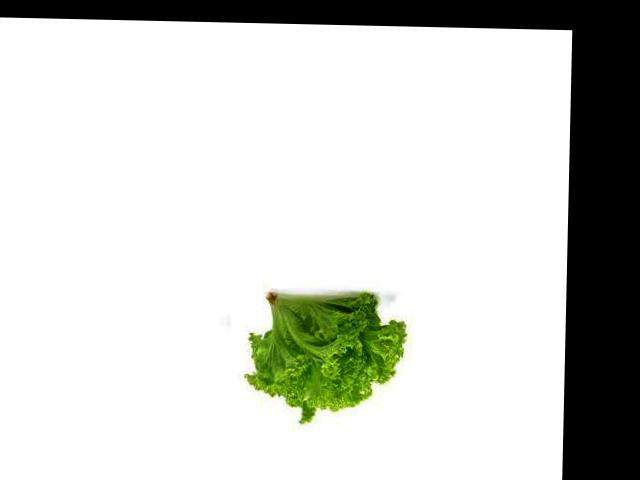lettuce: (247, 271, 397, 418)
